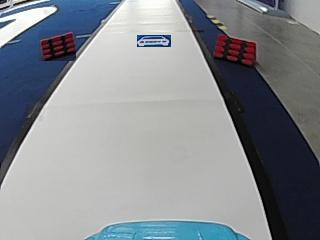bomb: (212, 34, 258, 66)
